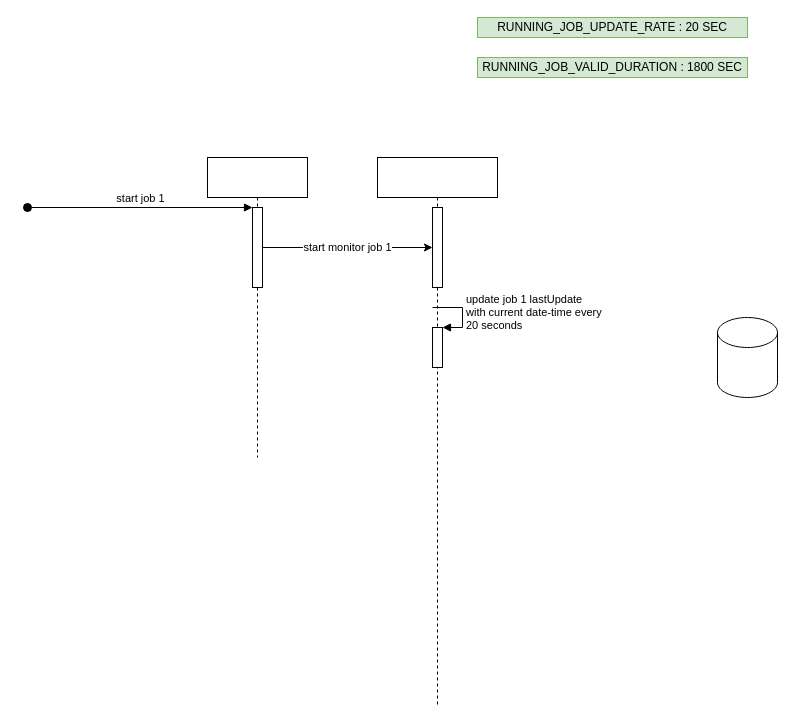
Some shapes in this 795 by 725 pixel diagram are drawn without their labels. Each missing label, with the box of its shape:
JobExecutionMonitor: (376, 156, 498, 708)
JobLauncher: (206, 156, 308, 458)
